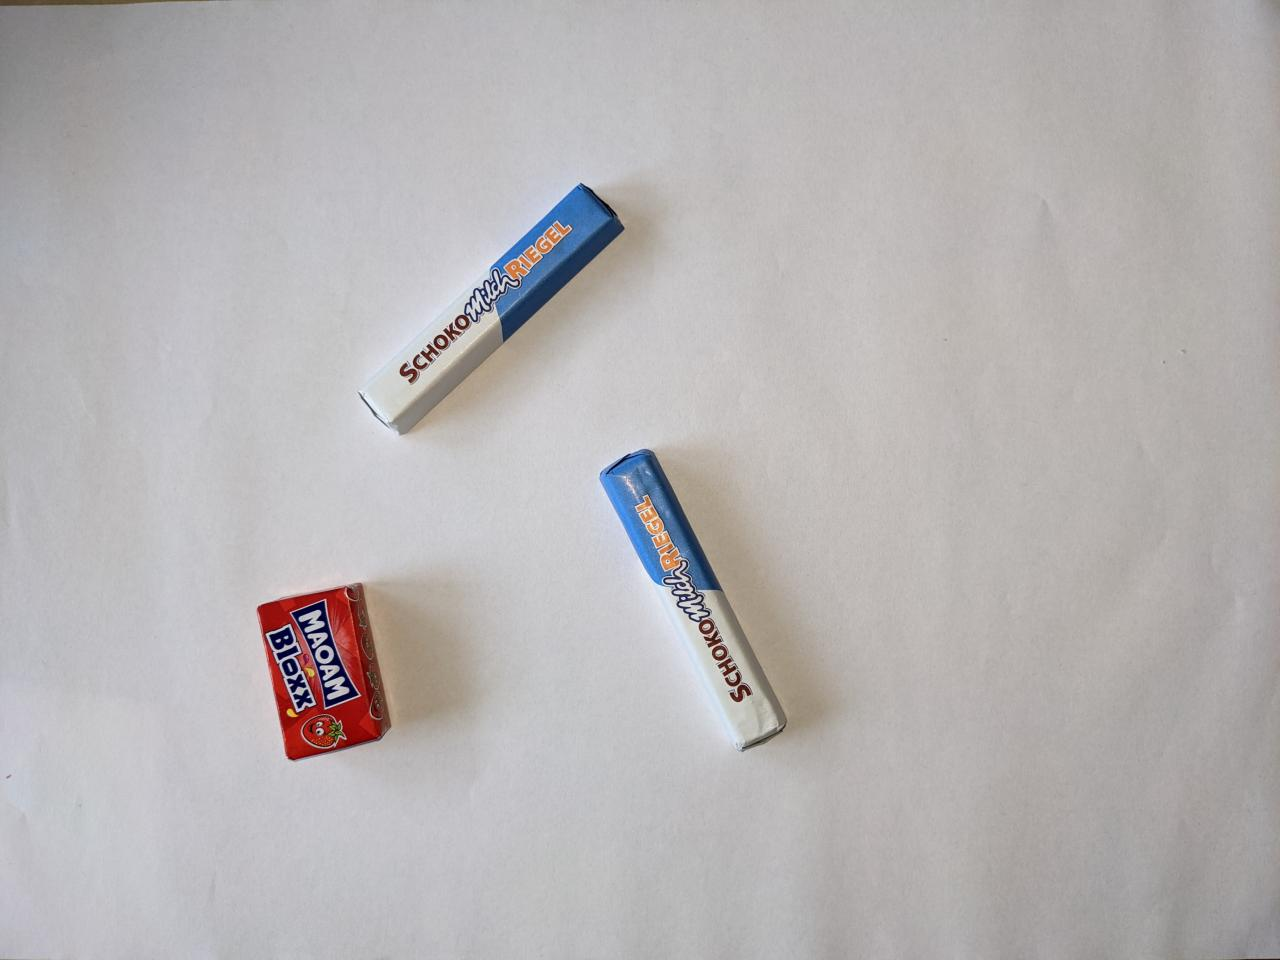MAOAM: (252, 577, 402, 768)
Schokoriegel: (350, 175, 634, 445), (595, 442, 799, 760)
